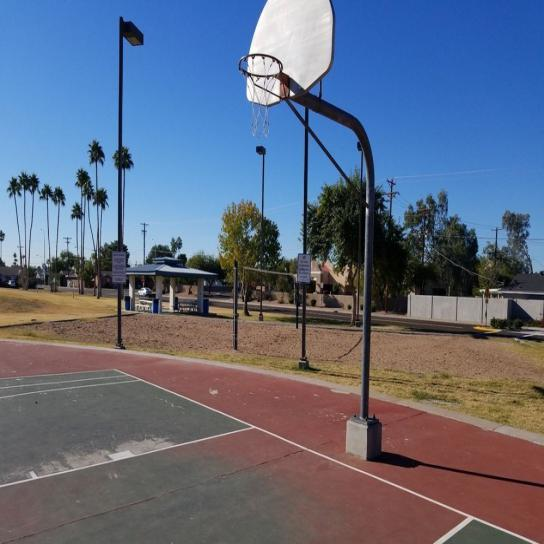basketball-hoop: (237, 51, 284, 140)
